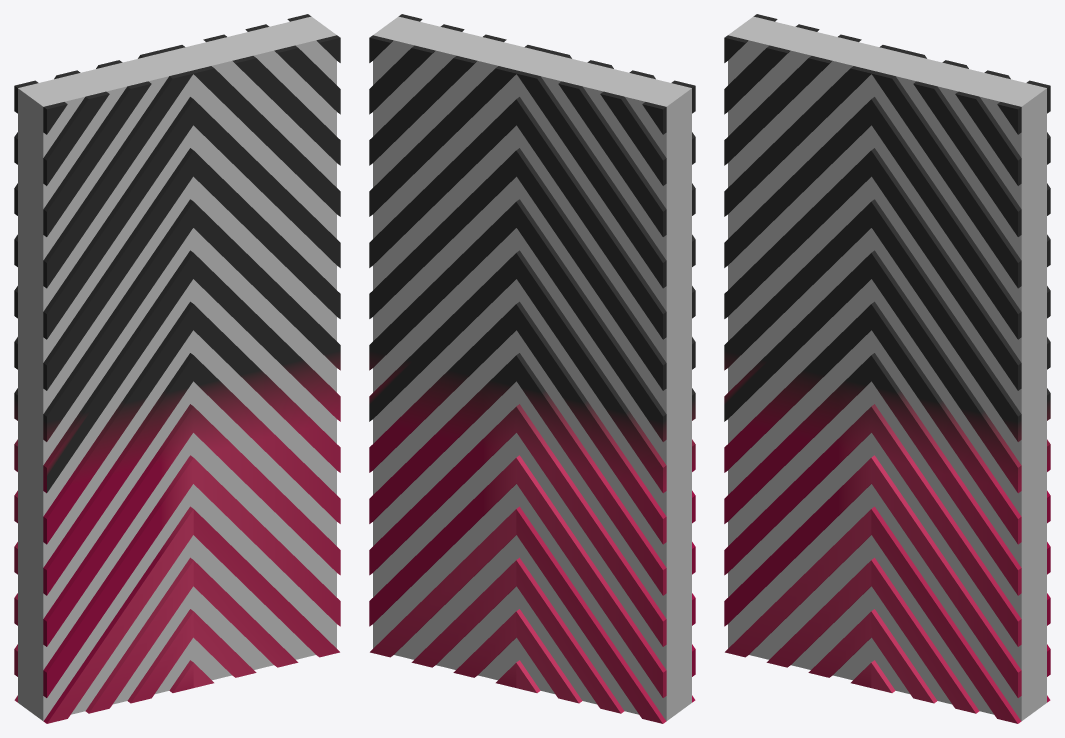
The model's file is ArrowWall.glb.
3 views of the same model, side by side, from view 1: azimuth 30°, elevation 25°; view 2: azimuth 150°, elevation 25°; view 3: azimuth 330°, elevation 25° (orthographic).
Visible parts, largest first — view 1: wall_arrow; view 2: wall_arrow; view 3: wall_arrow.
Boxes of the visible parts, x1,y1,x2,y2 form: wall_arrow: [14, 14, 340, 723]; wall_arrow: [369, 14, 695, 723]; wall_arrow: [724, 14, 1050, 723].
Size of what is drawn, in the model's own units: 2 by 4 by 0.3827.
Materials: 1 (1 with a texture image).
